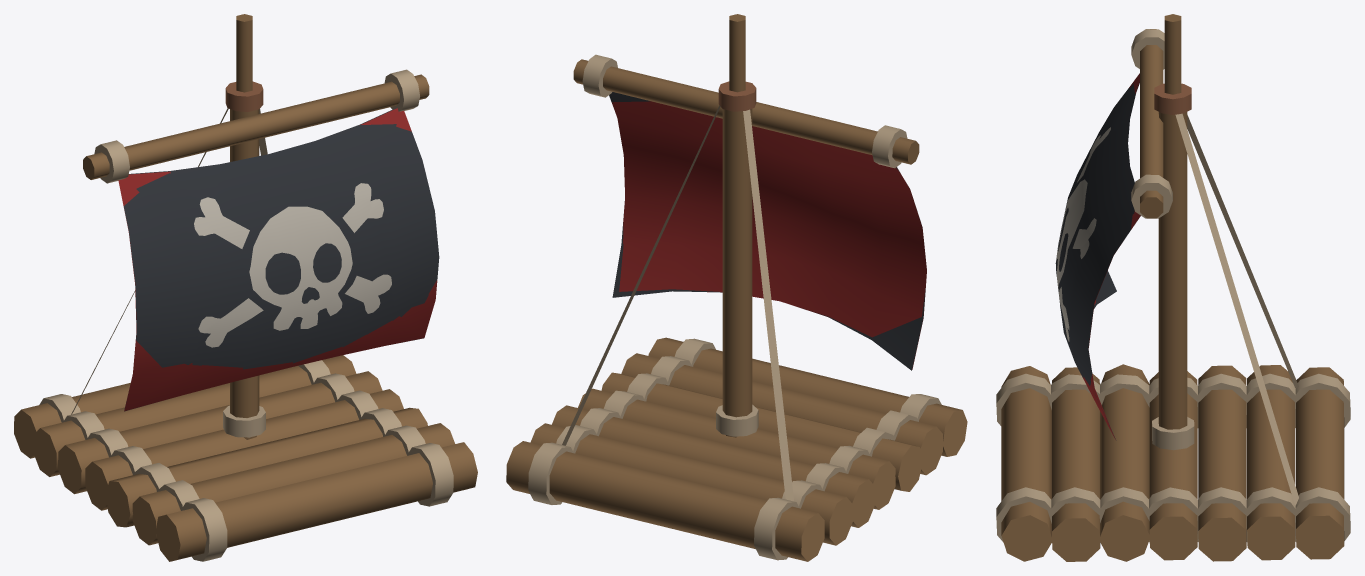
File: Raft.fbx
3 views of the same model, side by side, from view 1: azimuth 30°, elevation 25°; view 2: azimuth 150°, elevation 25°; view 3: azimuth 270°, elevation 25° (orthographic). The views are drawn at different scales.
Visible parts, largest first — view 1: Raft, Sails_Black, Sails_Red; view 2: Raft, Sails_Red, Sails_Black; view 3: Raft, Sails_Black, Sails_Red.
Boxes of the visible parts, left/top/right/bottom form: Raft: left=14, top=14, right=477, bottom=561; Sails_Black: left=123, top=108, right=439, bottom=411; Sails_Red: left=118, top=108, right=437, bottom=411; Raft: left=506, top=14, right=967, bottom=561; Sails_Red: left=612, top=101, right=926, bottom=369; Sails_Black: left=609, top=92, right=925, bottom=370; Raft: left=996, top=14, right=1350, bottom=561; Sails_Black: left=1055, top=82, right=1140, bottom=440; Sails_Red: left=1081, top=73, right=1140, bottom=439.
Size of the model in its own units: 329 by 432 by 292.
